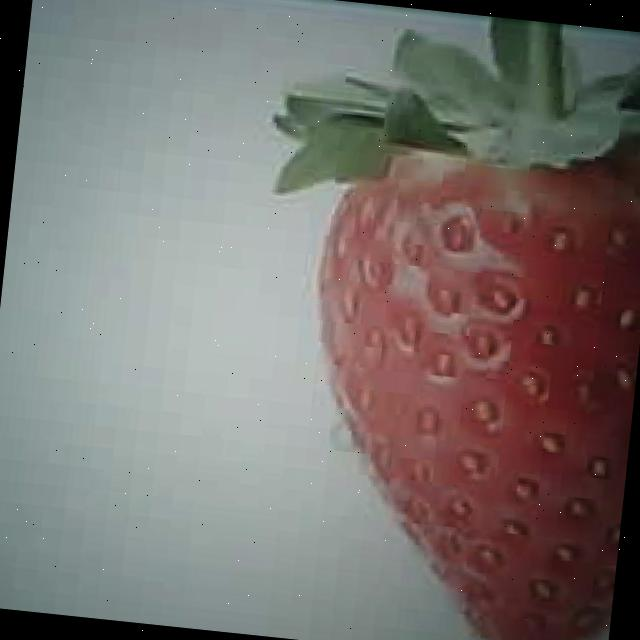strawberry: (279, 125, 640, 640)
